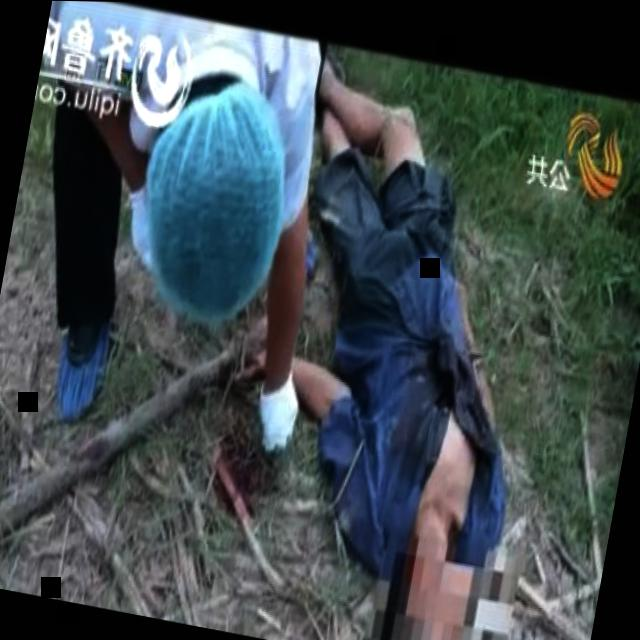Fall-Detected: (219, 40, 611, 640)
